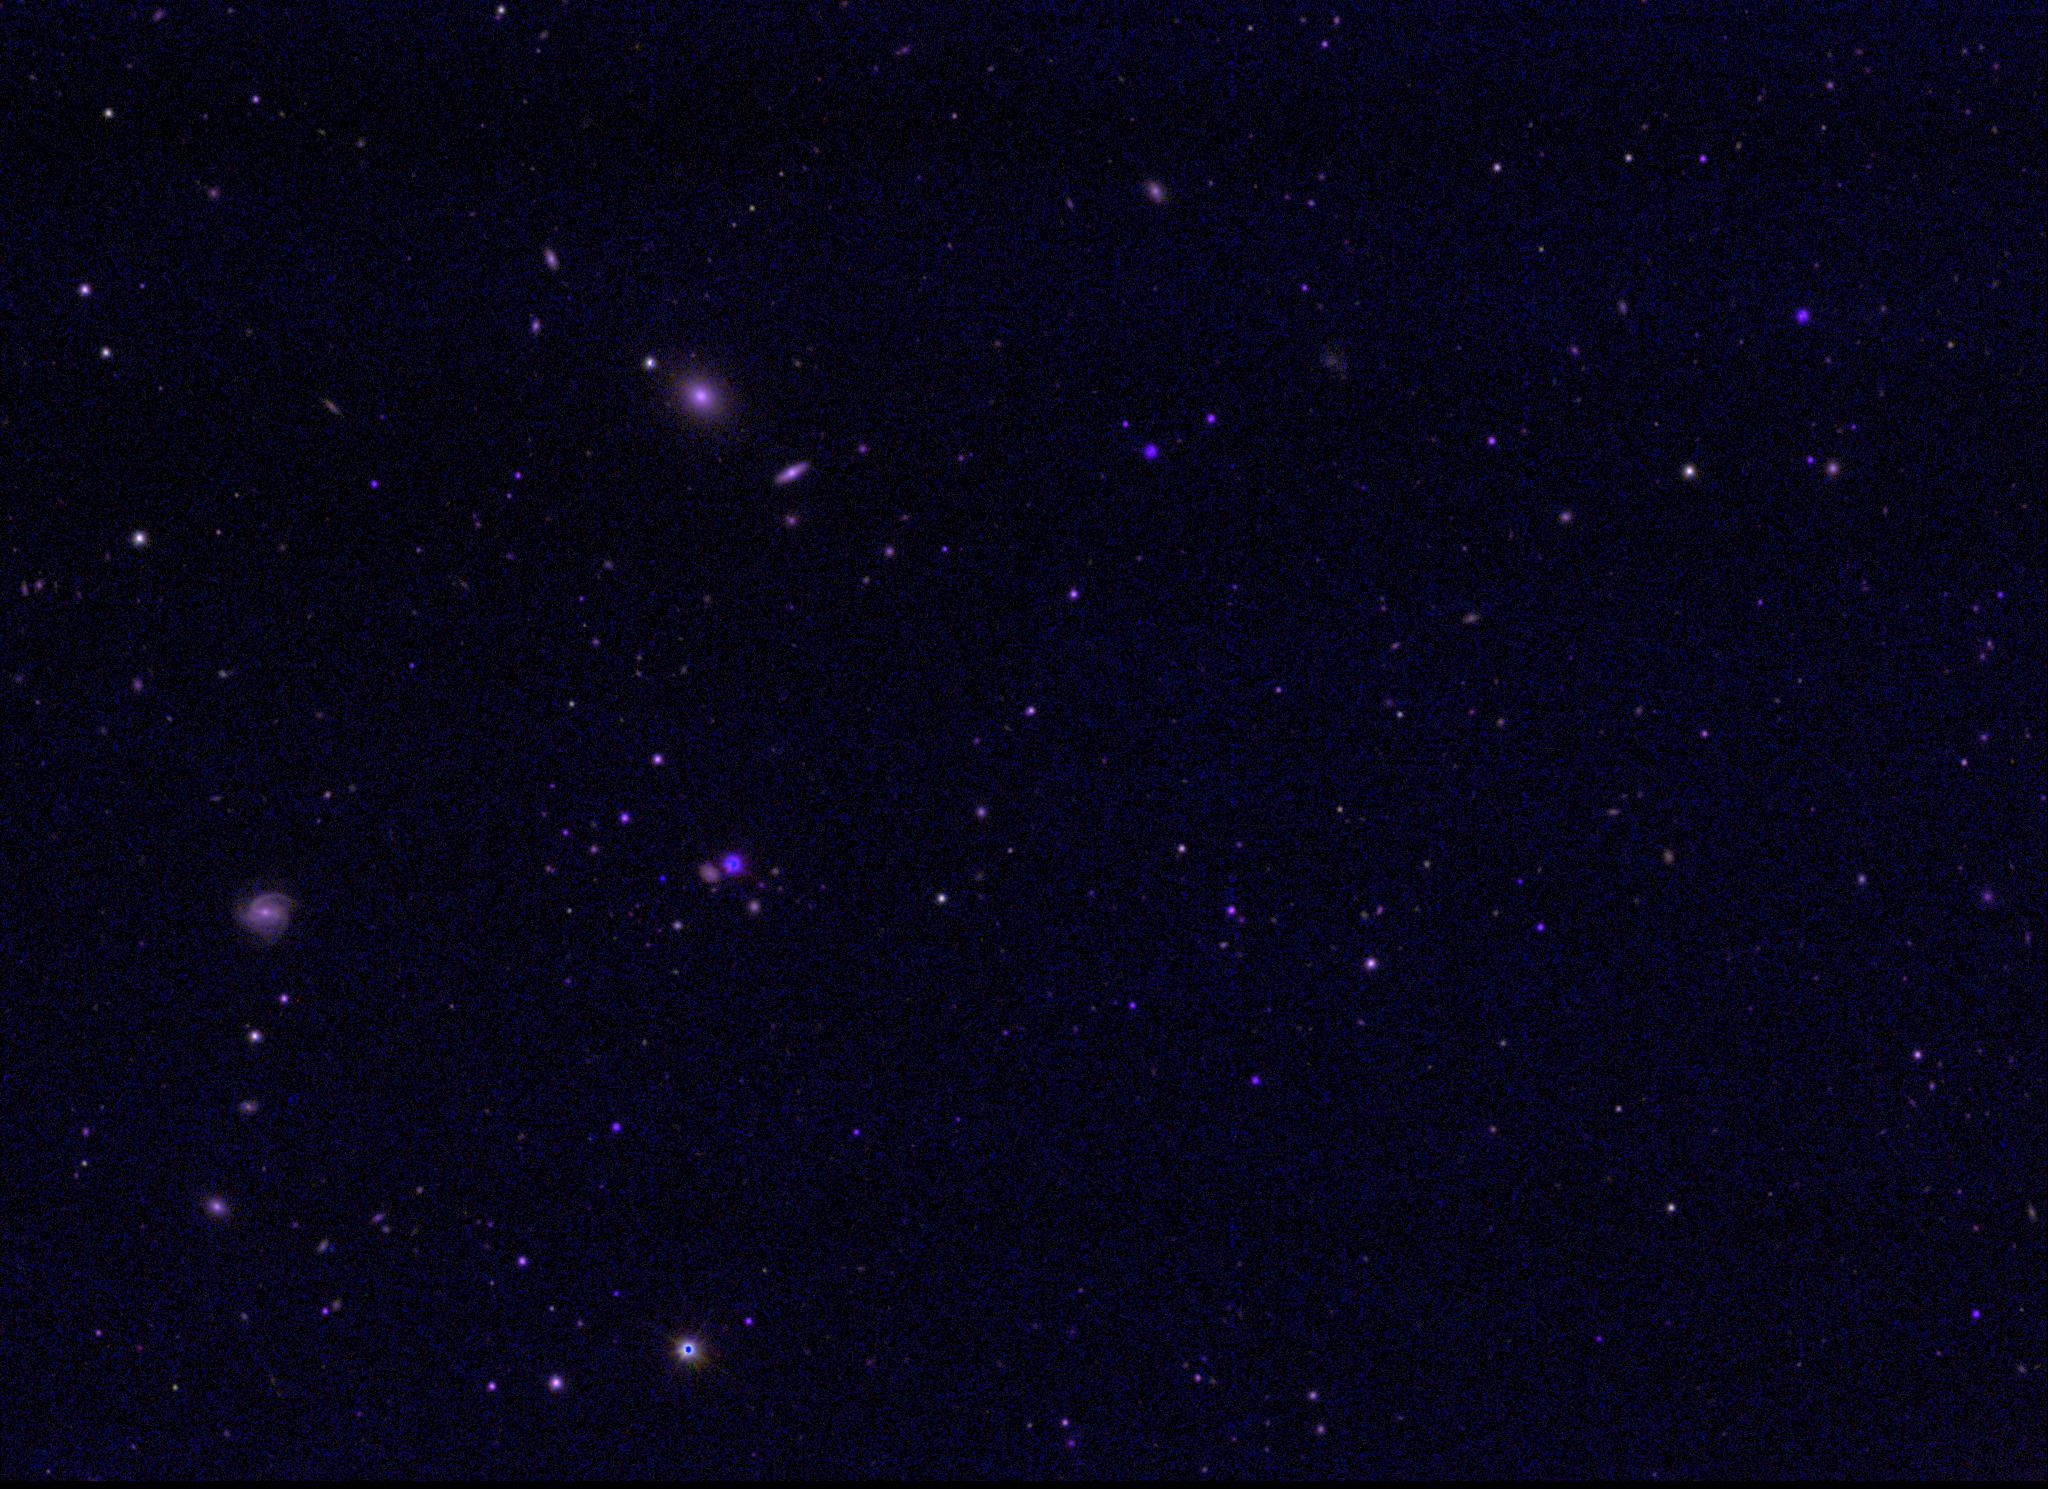L: (657, 872, 669, 884)
